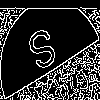S: (25, 25, 63, 82)
